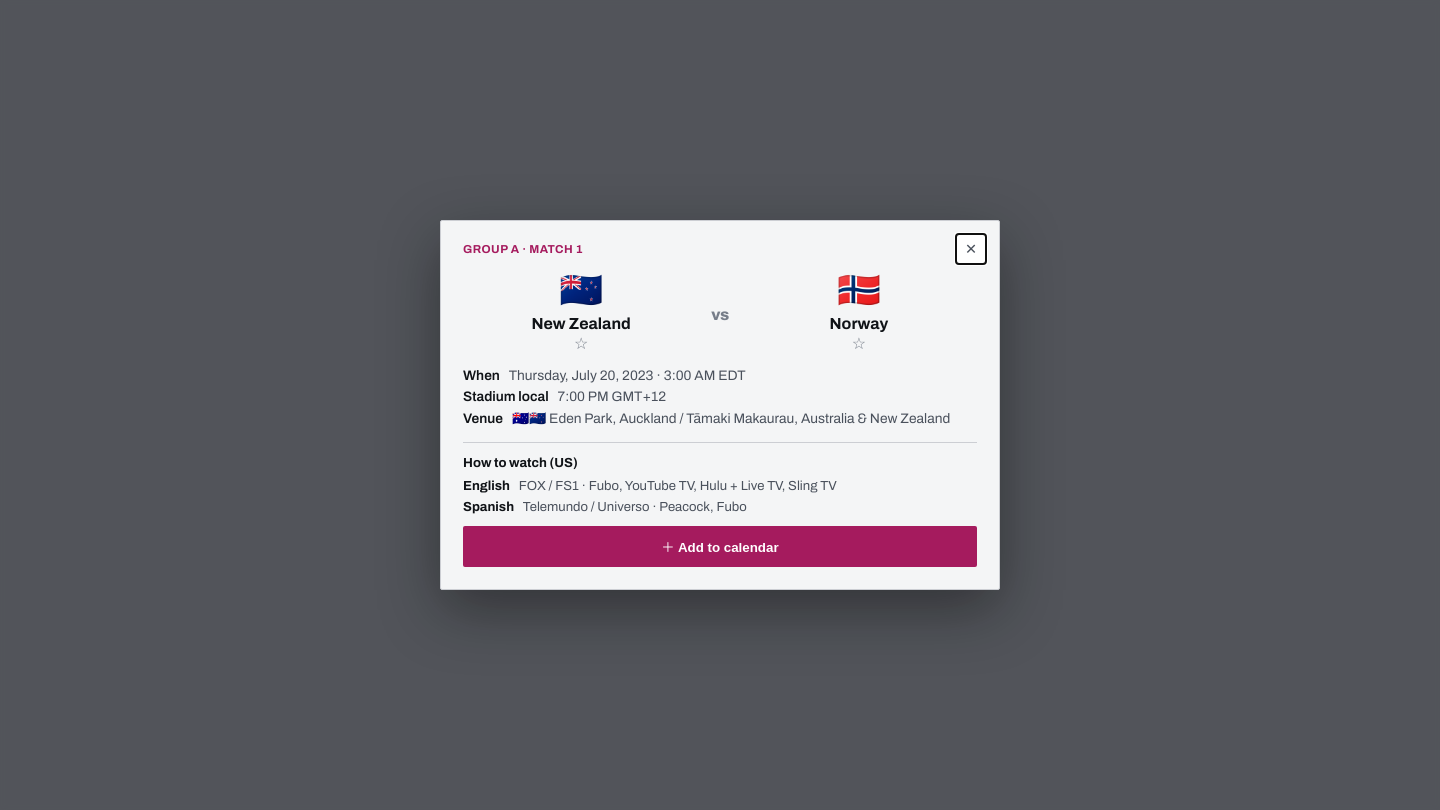
Test: MatchDetail follow + meta + actions › toggles follow on a team star
Click the button named "Follow New Zealand" at (581, 344), box [572, 336, 590, 352]
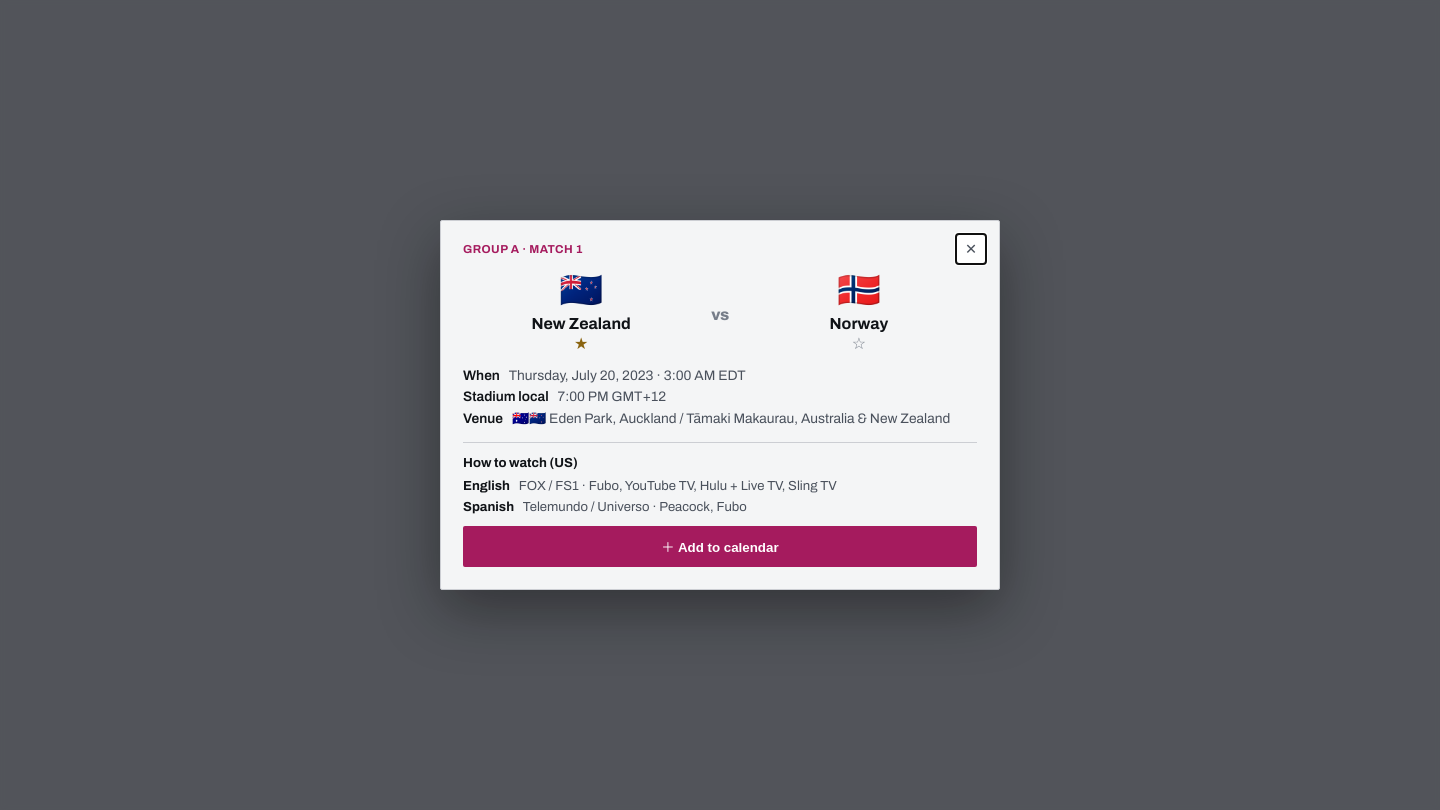
Expected: the button named "Unfollow New Zealand" is shown, [572, 336, 590, 352]
